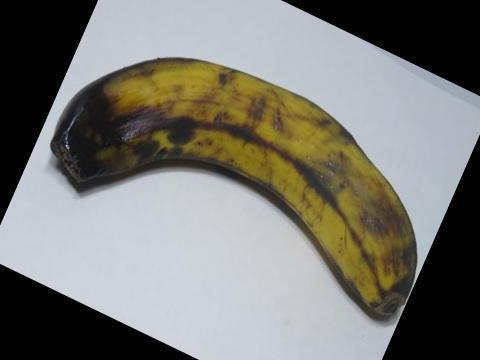overripe: (40, 43, 427, 338)
rotten: (50, 77, 170, 186)
